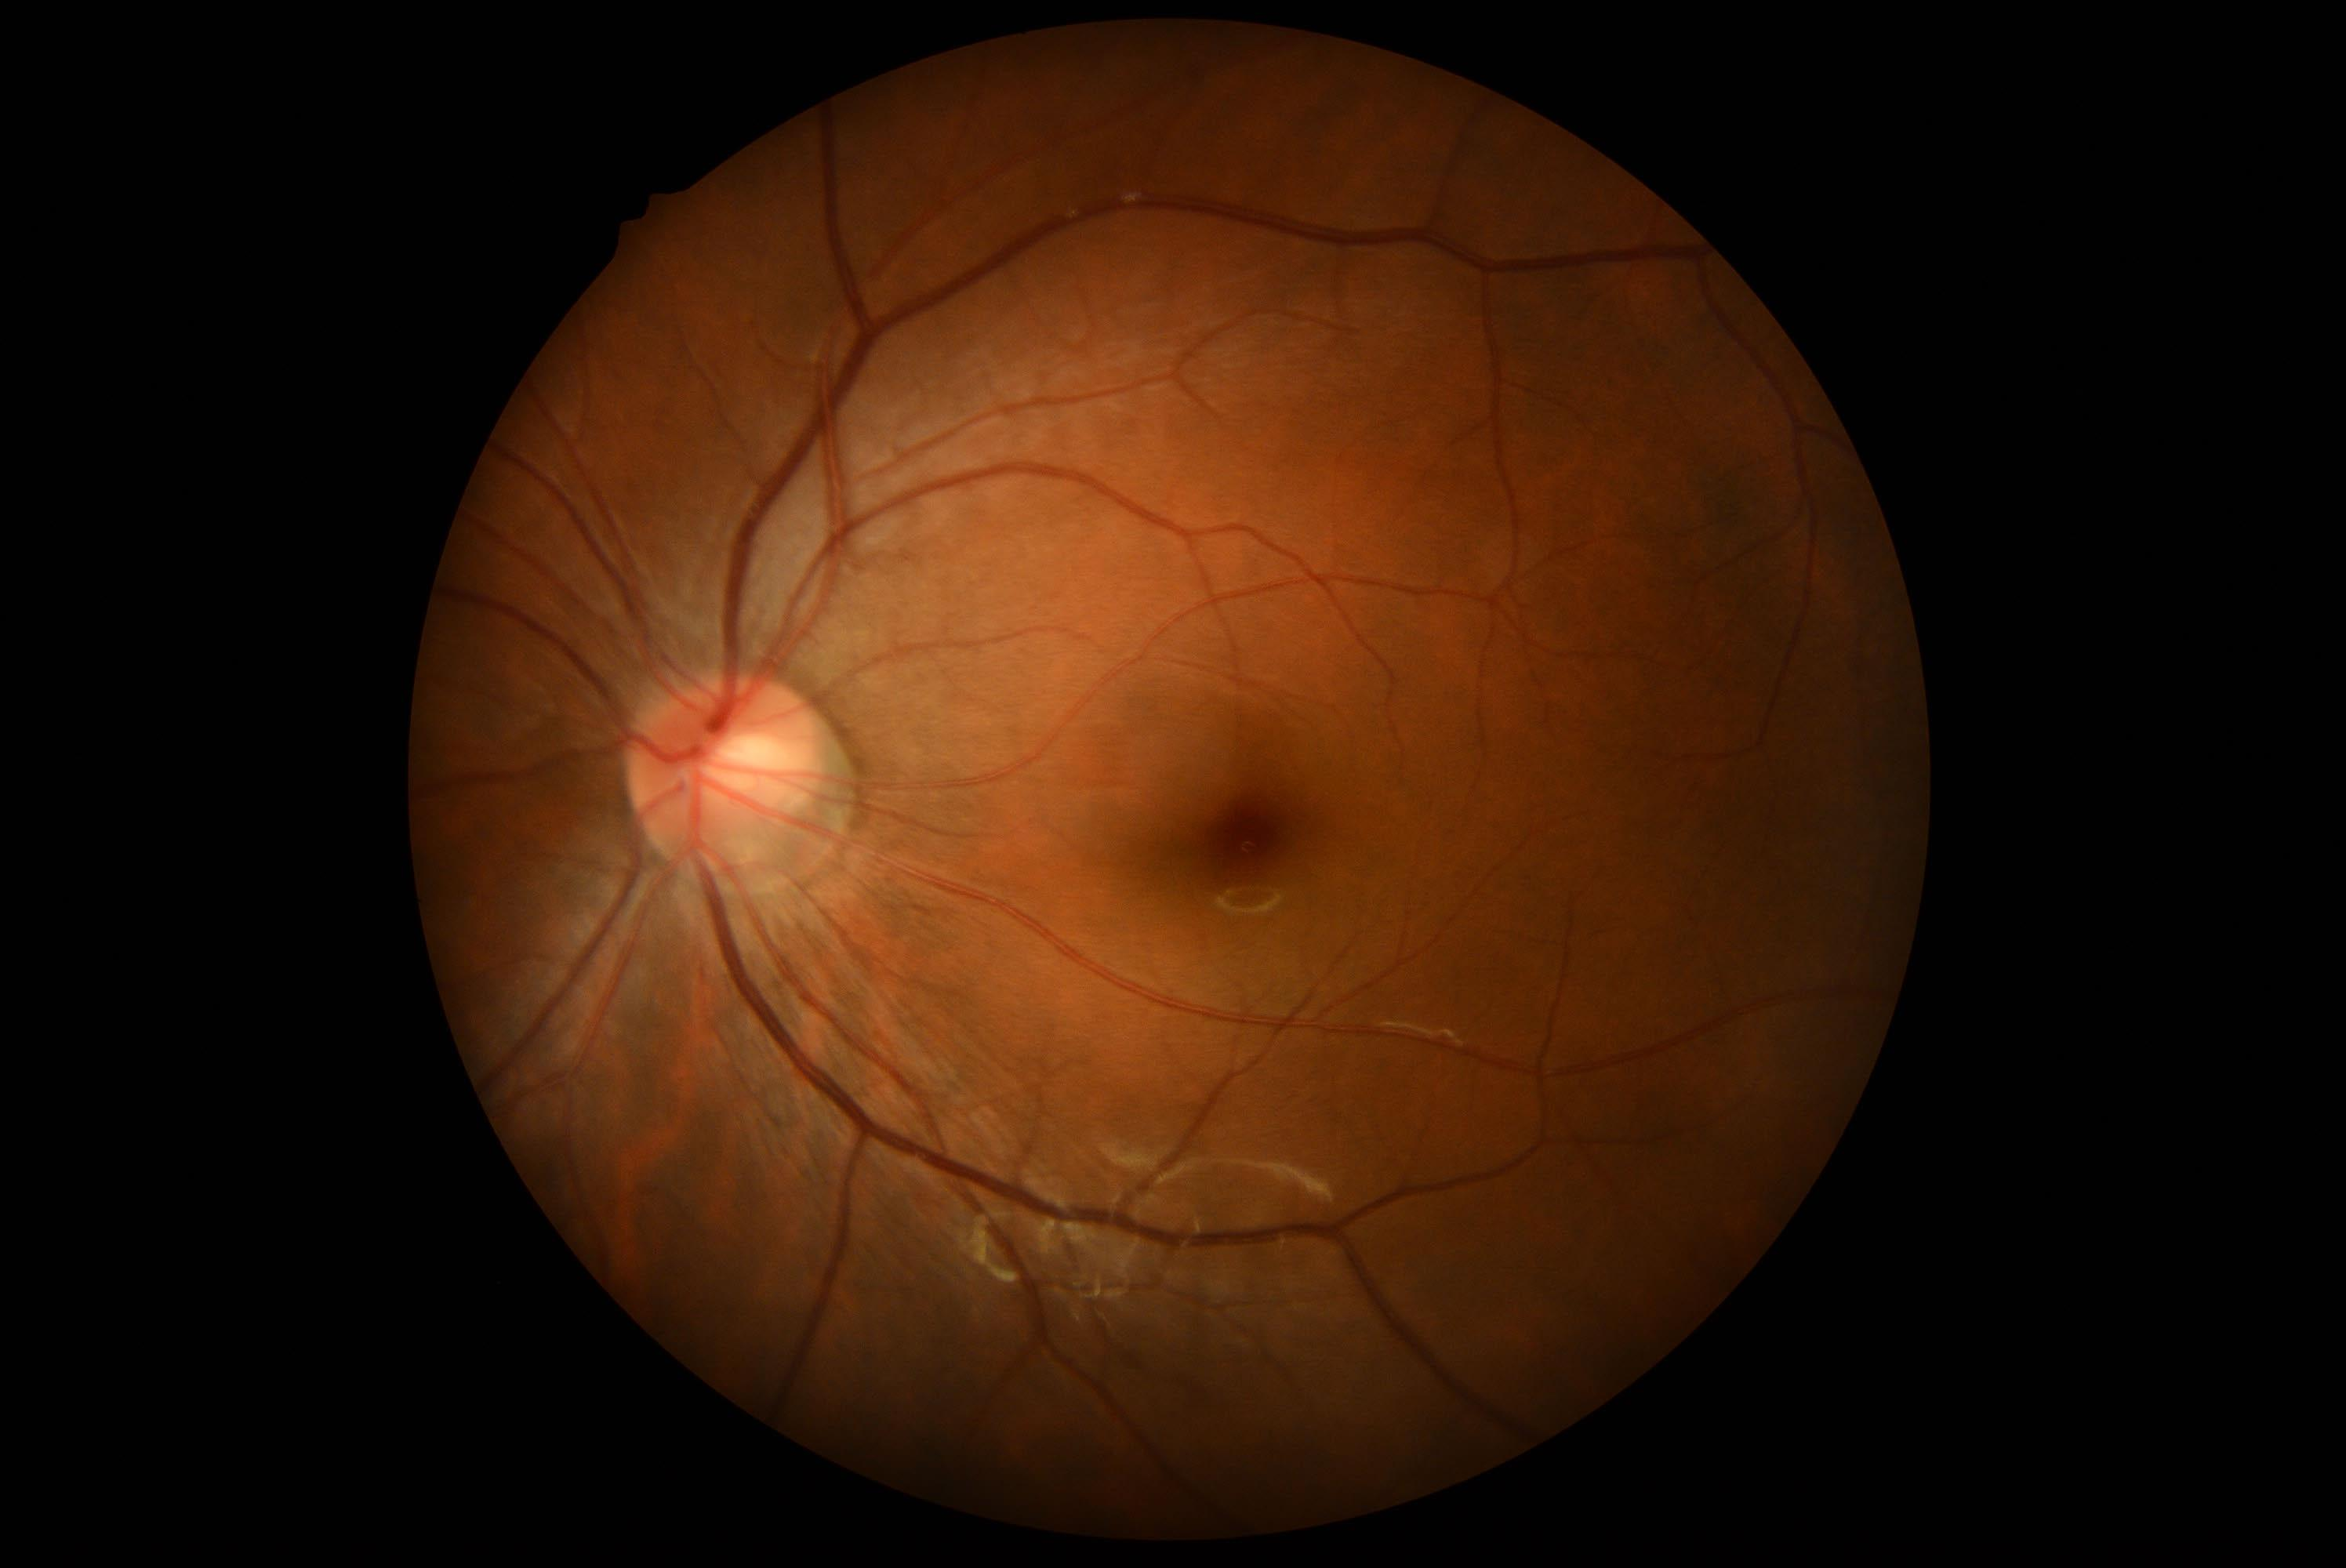Fovea: (1174, 763, 1317, 908)
